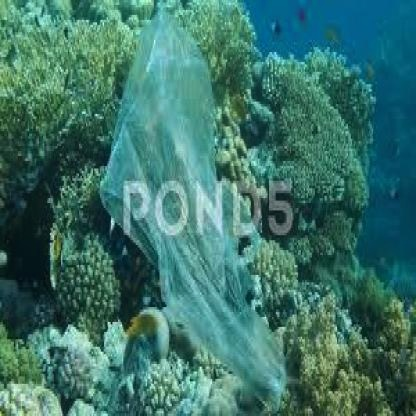pbag: (97, 7, 286, 408)
